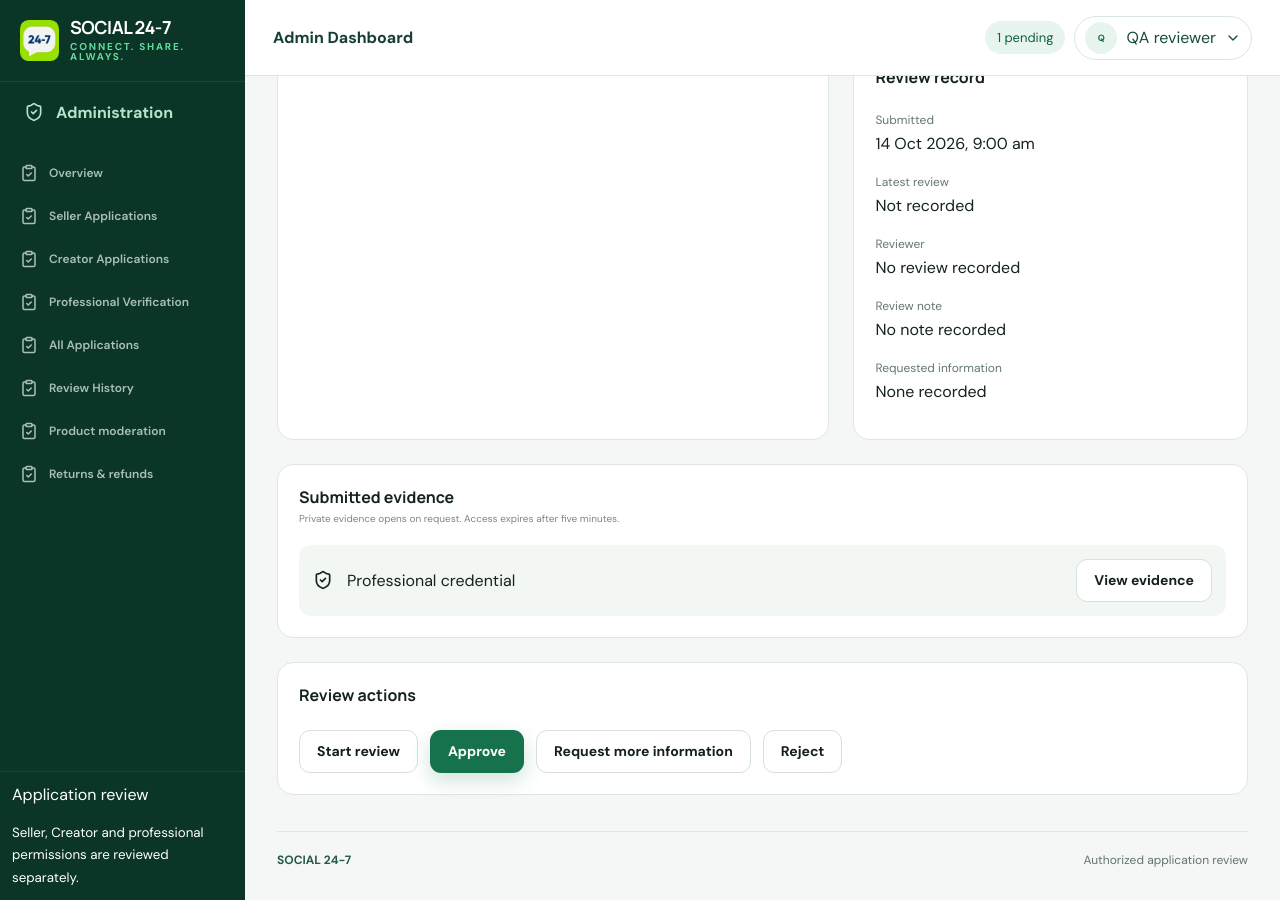
Test: Admin decision acceptance without production mutations › keeps note and dialog on a rejected RPC, enables retry and never displays success
(page scrolled)
Click the button "Request more information" at (643, 751), box [536, 730, 751, 773]
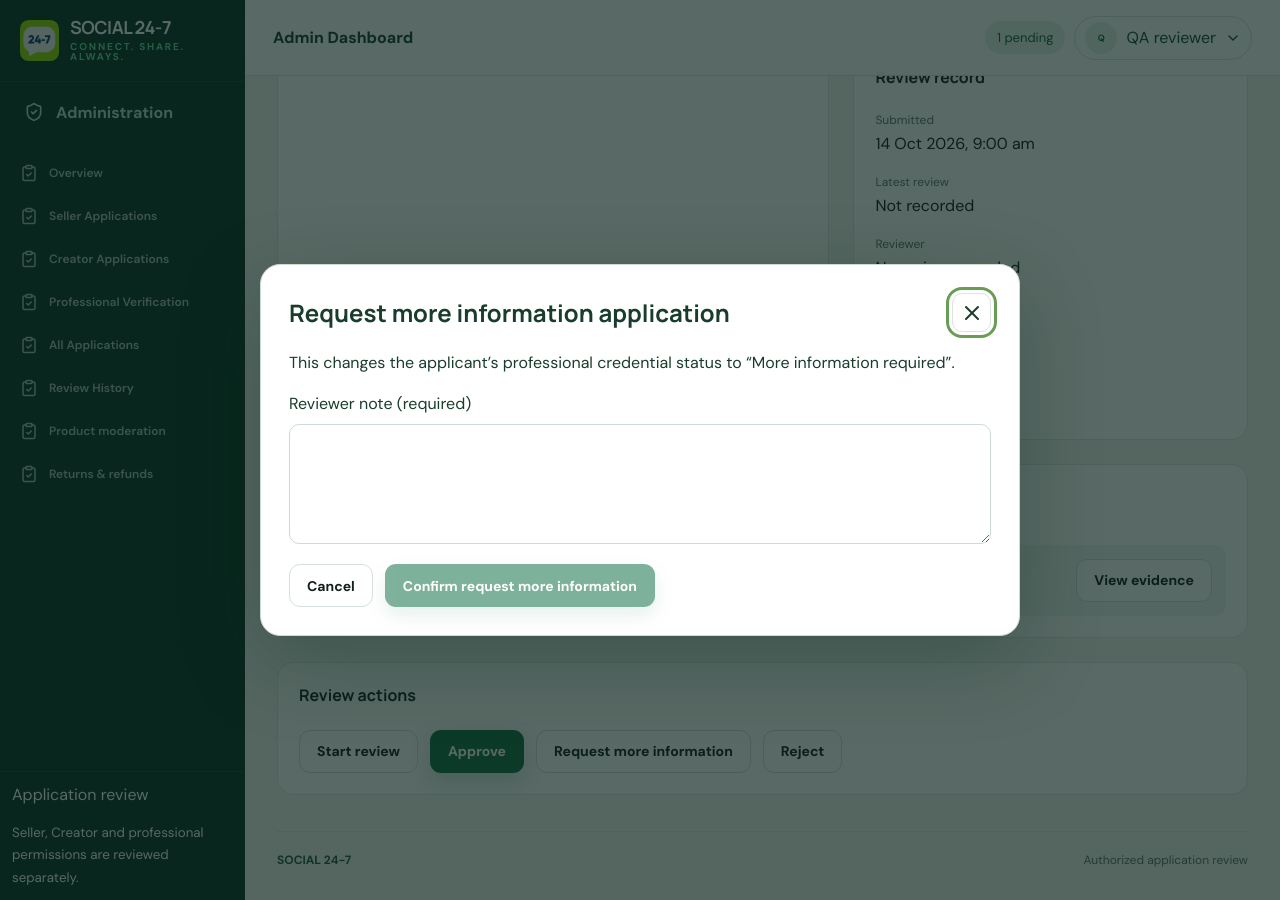
Type "Please provide clearer evidence." into the text box labelled "Reviewer note (required)" at (640, 484), box [289, 424, 991, 544]
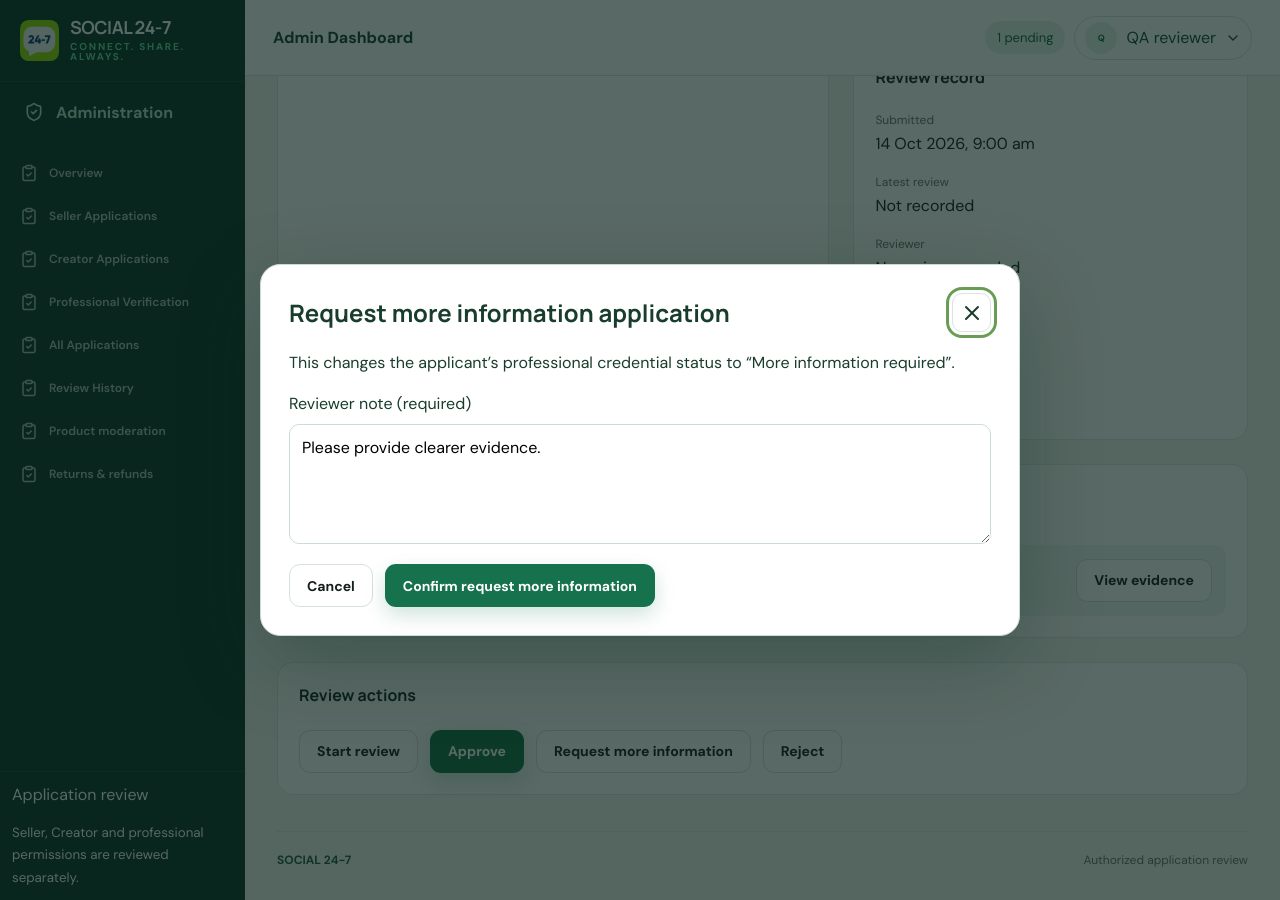
Click the button "Confirm request more information" at (520, 586), box [385, 564, 655, 607]
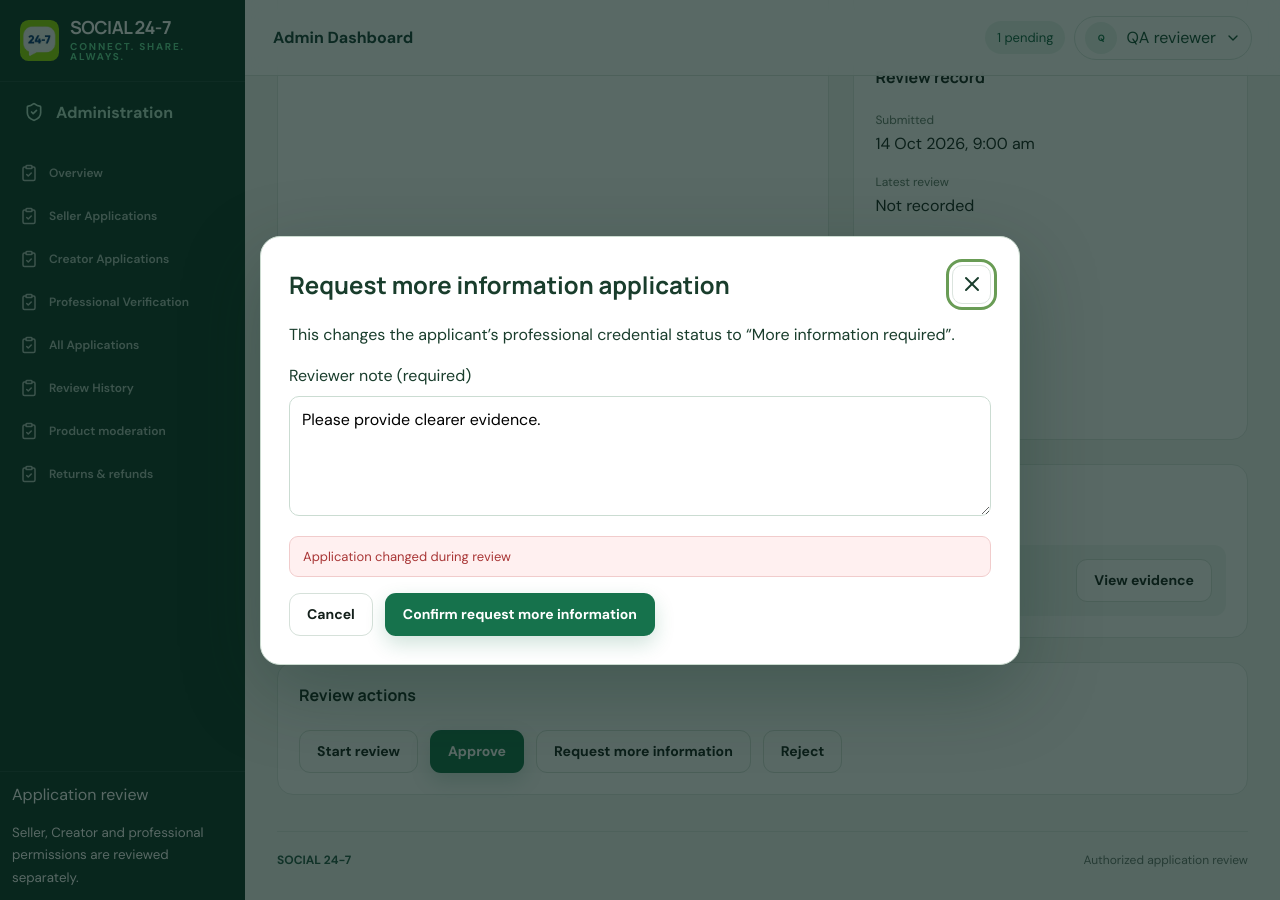
Result: the button "Confirm request more information" is enabled at [385, 592, 655, 636]
Result: the message reads "Application changed during review" at [303, 548, 511, 564]
